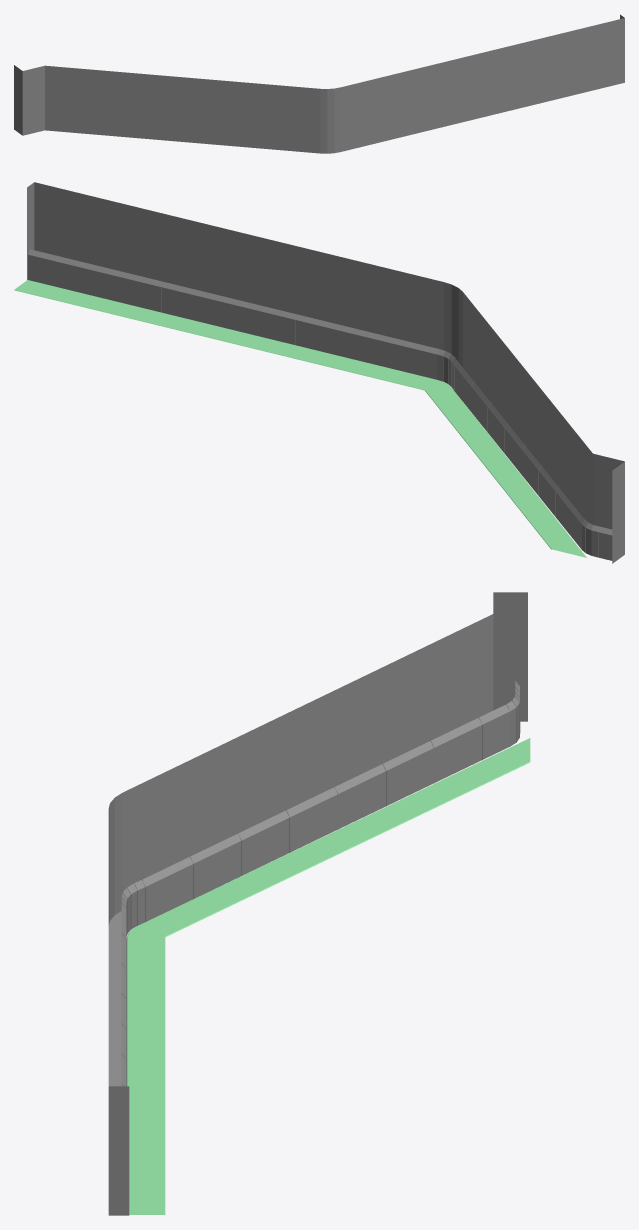
3 renders of one model, top to bottom at view 1: azimuth 30°, elevation 25°; view 2: azimuth 150°, elevation 25°; view 3: azimuth 270°, elevation 25°, orthographic. The views are drawn at different scales.
Visible parts, largest first — view 1: RT+ V01 T01 COLL, RT+ V01 T01 RubW; view 2: RT+ V01 T01 COLL, RT+ V01 T01 Fence Shared, RT+ V01 T01 SR, RT+ V01 T01 Fence HI; view 3: RT+ V01 T01 COLL, RT+ V01 T01 SR, RT+ V01 T01 Fence Shared, RT+ V01 T01 RubW, RT+ V01 T01 Fence HI.
Boxes of the visible parts, <box> form: RT+ V01 T01 COLL: <box>14,14,624,153</box>; RT+ V01 T01 RubW: <box>353,77,624,143</box>; RT+ V01 T01 COLL: <box>27,182,624,563</box>; RT+ V01 T01 Fence Shared: <box>28,249,612,560</box>; RT+ V01 T01 SR: <box>14,280,587,558</box>; RT+ V01 T01 Fence HI: <box>28,249,607,559</box>; RT+ V01 T01 COLL: <box>108,592,527,1215</box>; RT+ V01 T01 SR: <box>126,738,530,1215</box>; RT+ V01 T01 Fence Shared: <box>121,681,519,1086</box>; RT+ V01 T01 RubW: <box>108,911,121,1215</box>; RT+ V01 T01 Fence HI: <box>121,680,520,1086</box>.
Bounding box in the file's own units: 90 × 11 × 32.47.
